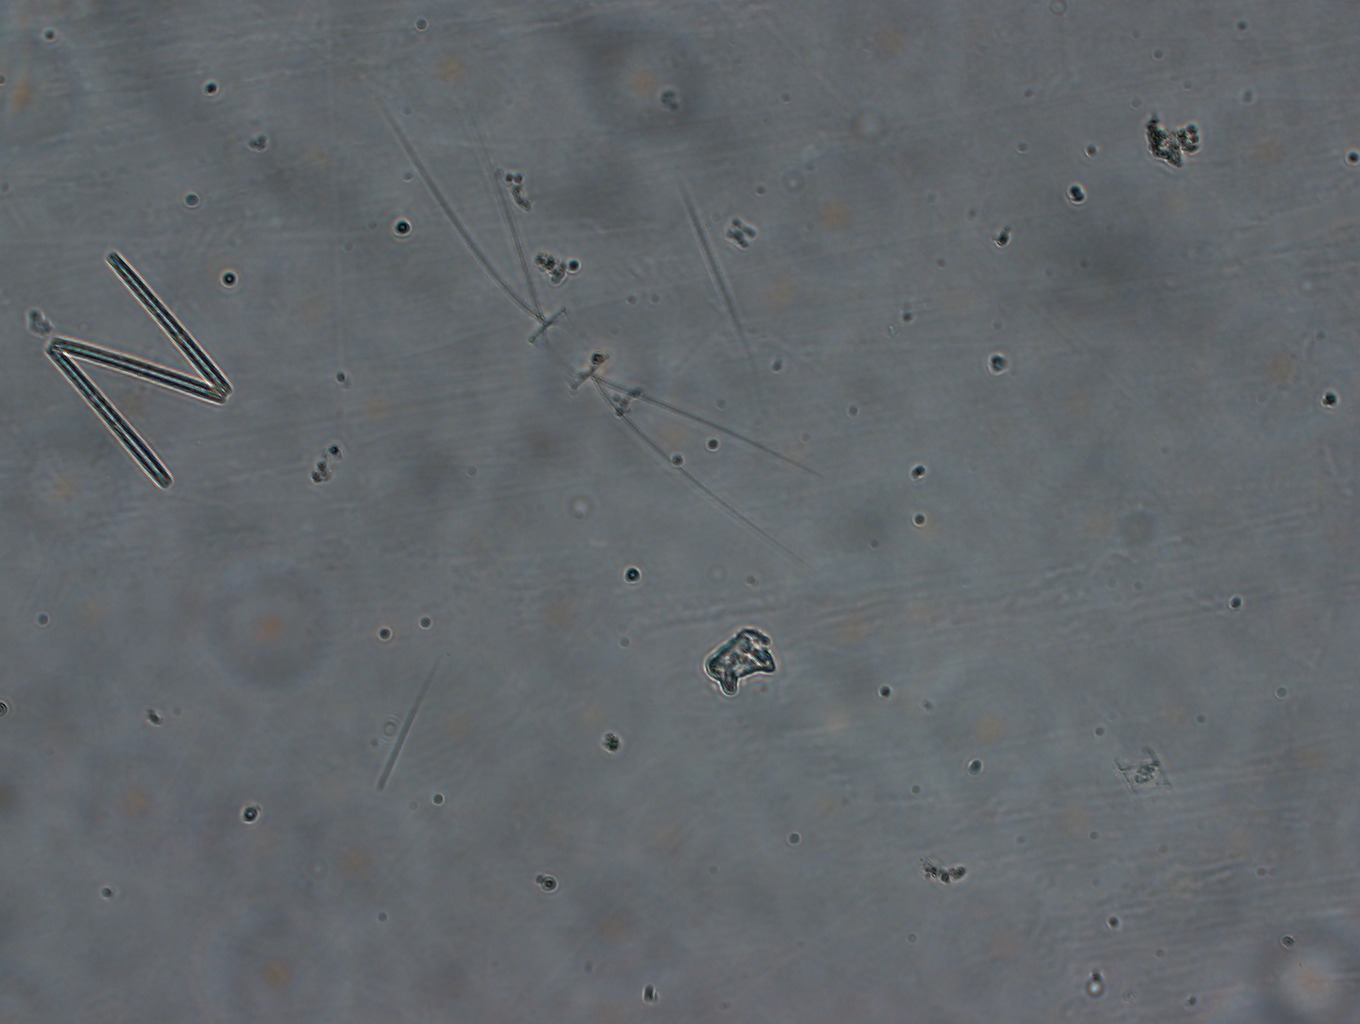chaetoceros: (366, 87, 830, 573)
thalassionema nitzschioides: (34, 244, 234, 497)
